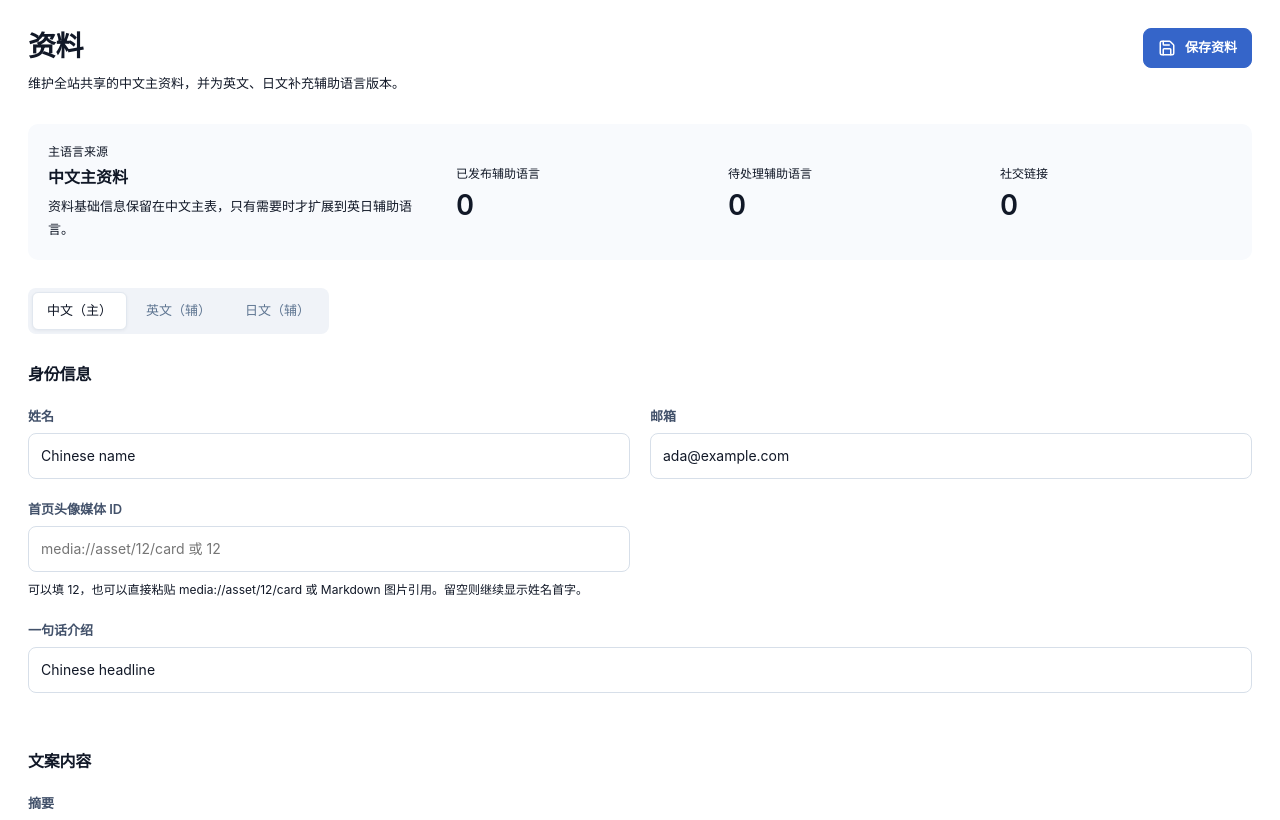
Test: ProfilePage › generates an auxiliary-language draft inline and publishes it after human review
The width and height of the screenshot is (1280, 820).
Click the tab "英文（辅）" at (178, 311), box x1=131 y1=292 x2=226 y2=330
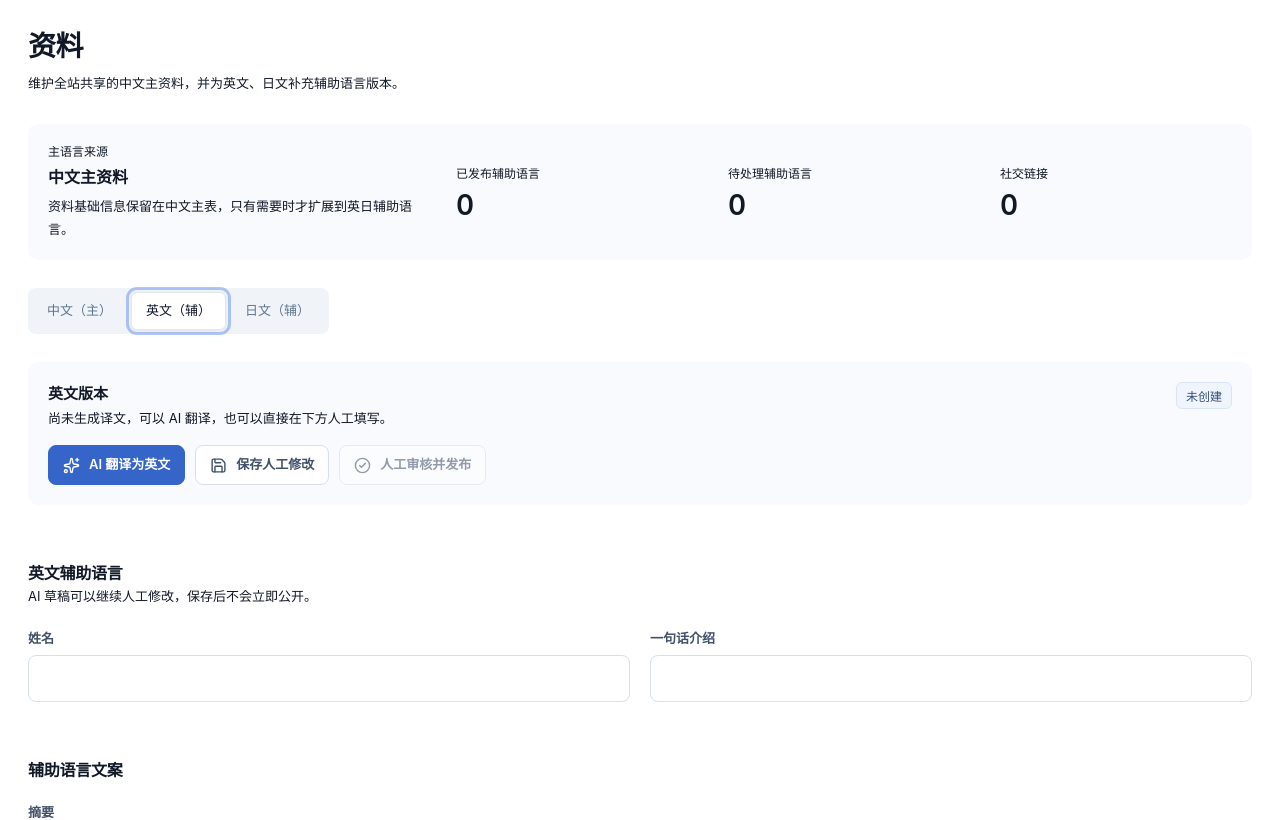
expect the text "未创建" is shown: met, box x1=1176 y1=382 x2=1232 y2=409
Click the button "AI 翻译为英文" at (117, 465), box x1=48 y1=445 x2=185 y2=485
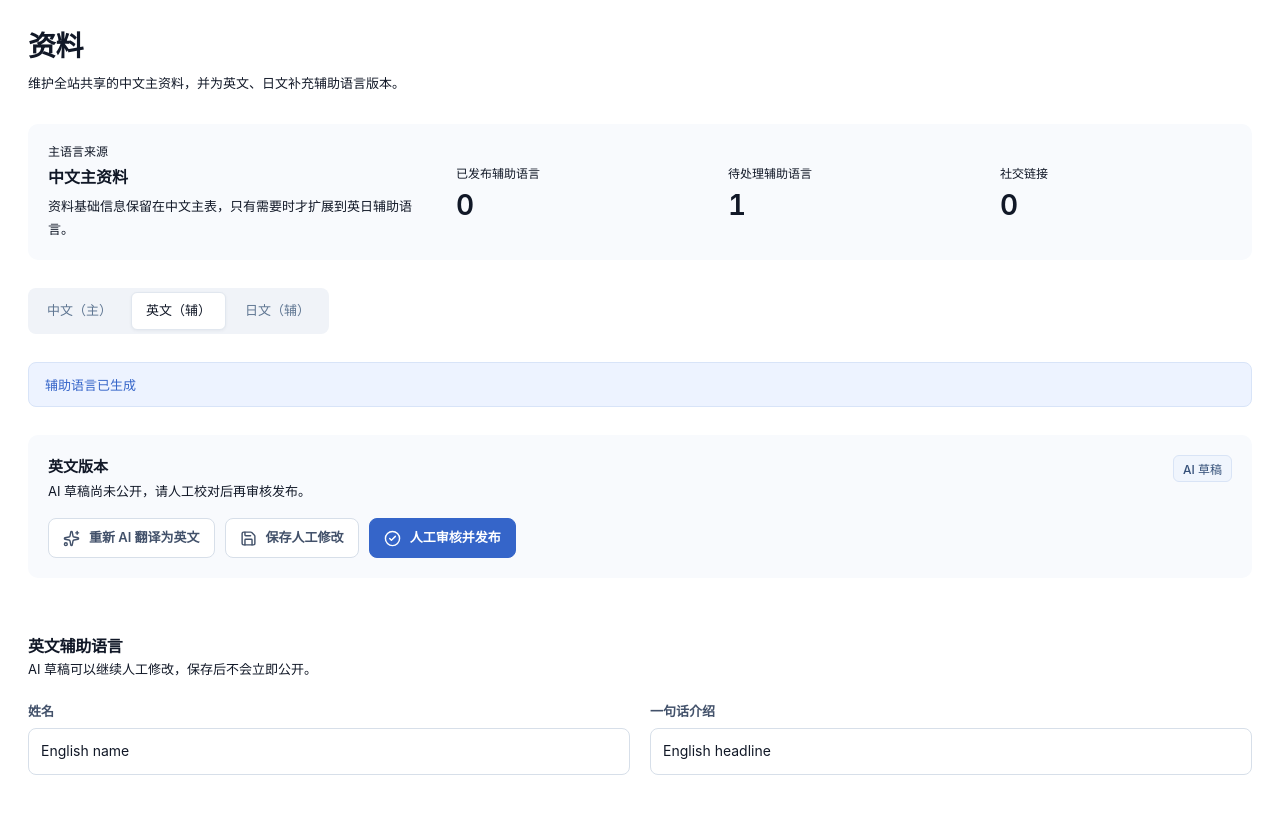
expect the field showing "English name" is shown: met, box x1=28 y1=728 x2=630 y2=775
expect the text "AI 草稿" is shown: met, box x1=1173 y1=455 x2=1232 y2=482
Click the button "人工审核并发布" at (442, 538), box x1=369 y1=518 x2=516 y2=558
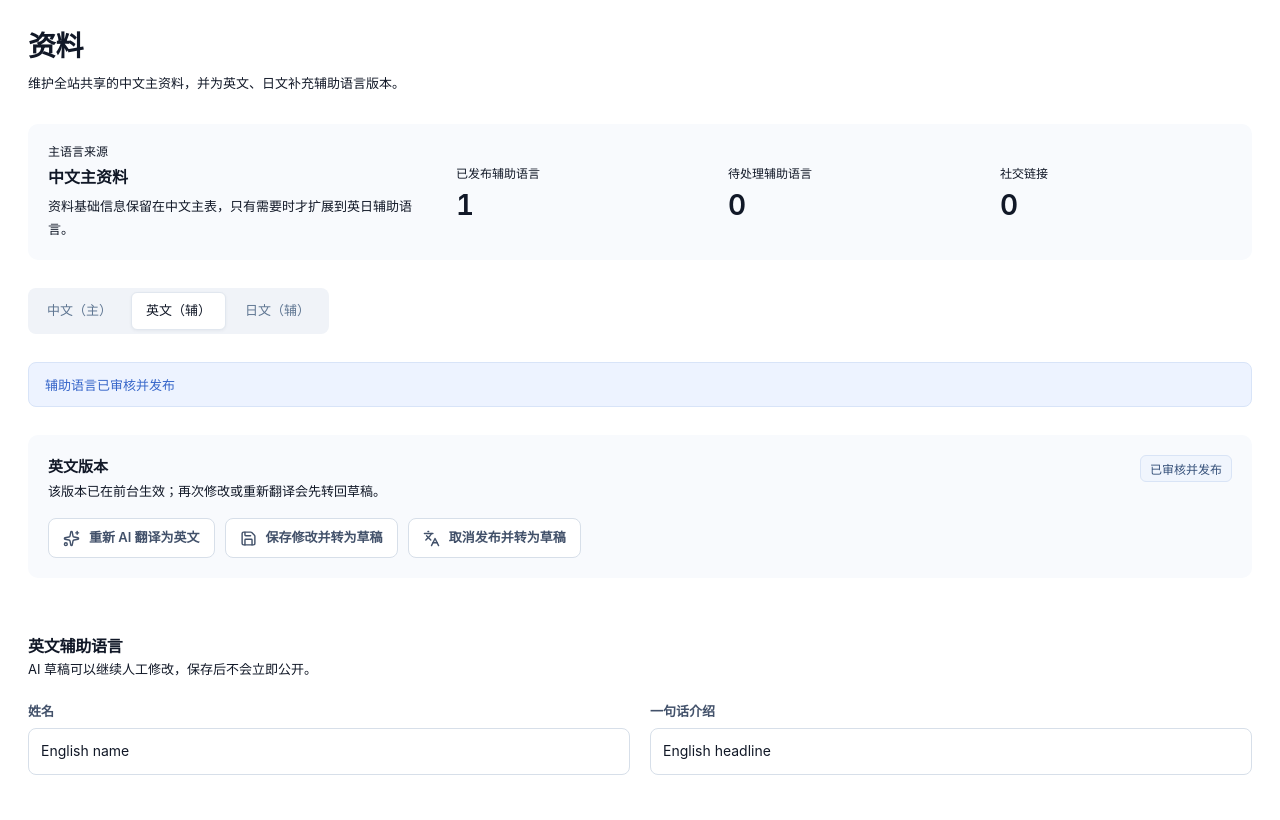
expect the text "已审核并发布" is shown: met, box x1=1140 y1=455 x2=1232 y2=482
